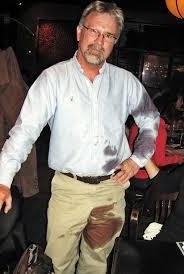wine: (84, 201, 121, 250), (94, 154, 121, 174), (138, 127, 155, 156), (132, 94, 152, 116), (98, 141, 121, 158)
